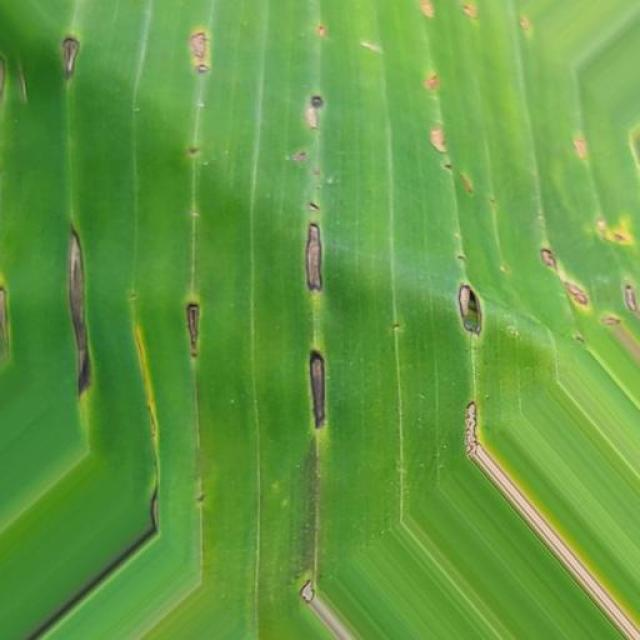Black_rot: (15, 4, 640, 589)
